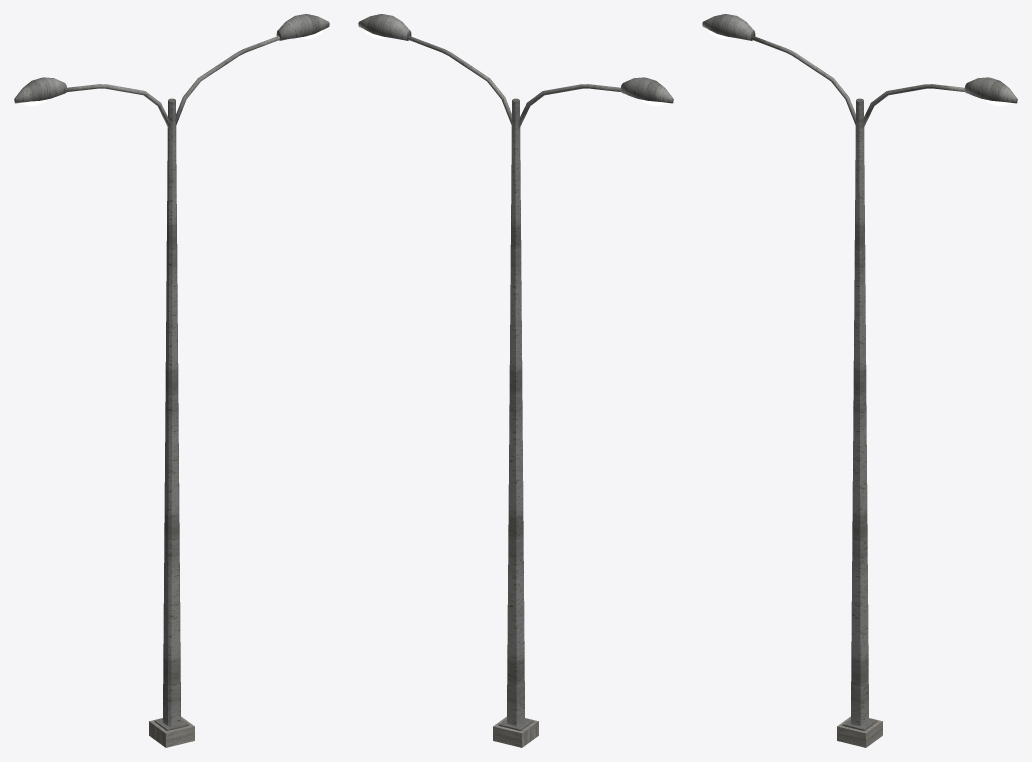
File: lamp_post_steel_lod2_web.glb
The picture shows the model from 3 angles, left to right: view 1: azimuth 30°, elevation 25°; view 2: azimuth 150°, elevation 25°; view 3: azimuth 330°, elevation 25°; orthographic projection.
Parts seen in each view (by area): view 1: LampPostSteel_Mesh; view 2: LampPostSteel_Mesh; view 3: LampPostSteel_Mesh.
Boxes of the visible parts, box(x1,y1,x2,y2) form: LampPostSteel_Mesh: box(14, 14, 329, 747); LampPostSteel_Mesh: box(358, 14, 673, 747); LampPostSteel_Mesh: box(702, 14, 1017, 747).
Bounding box in the file's own units: 4.54 × 9.55 × 0.4202.
3 materials, 2 textured.
